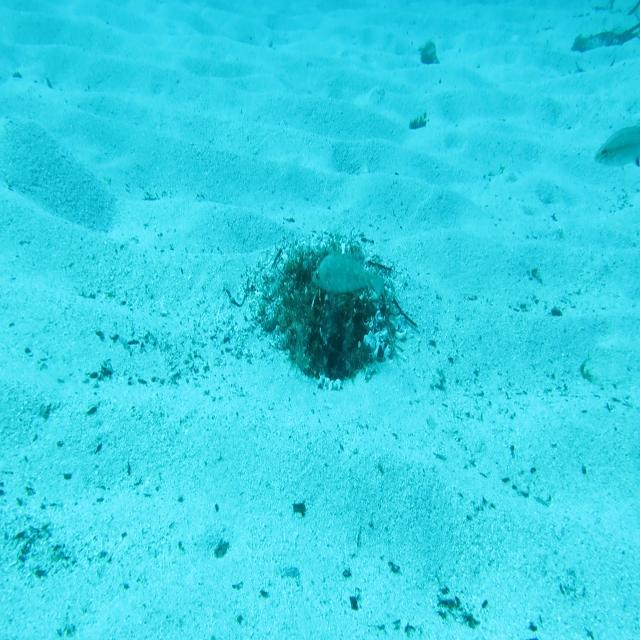INSF: (311, 248, 385, 309)
core_nest: (300, 256, 348, 292)
female: (593, 125, 640, 171)
nest: (262, 214, 416, 388)
vegetation: (571, 1, 640, 71), (417, 42, 442, 73), (408, 112, 434, 132)
